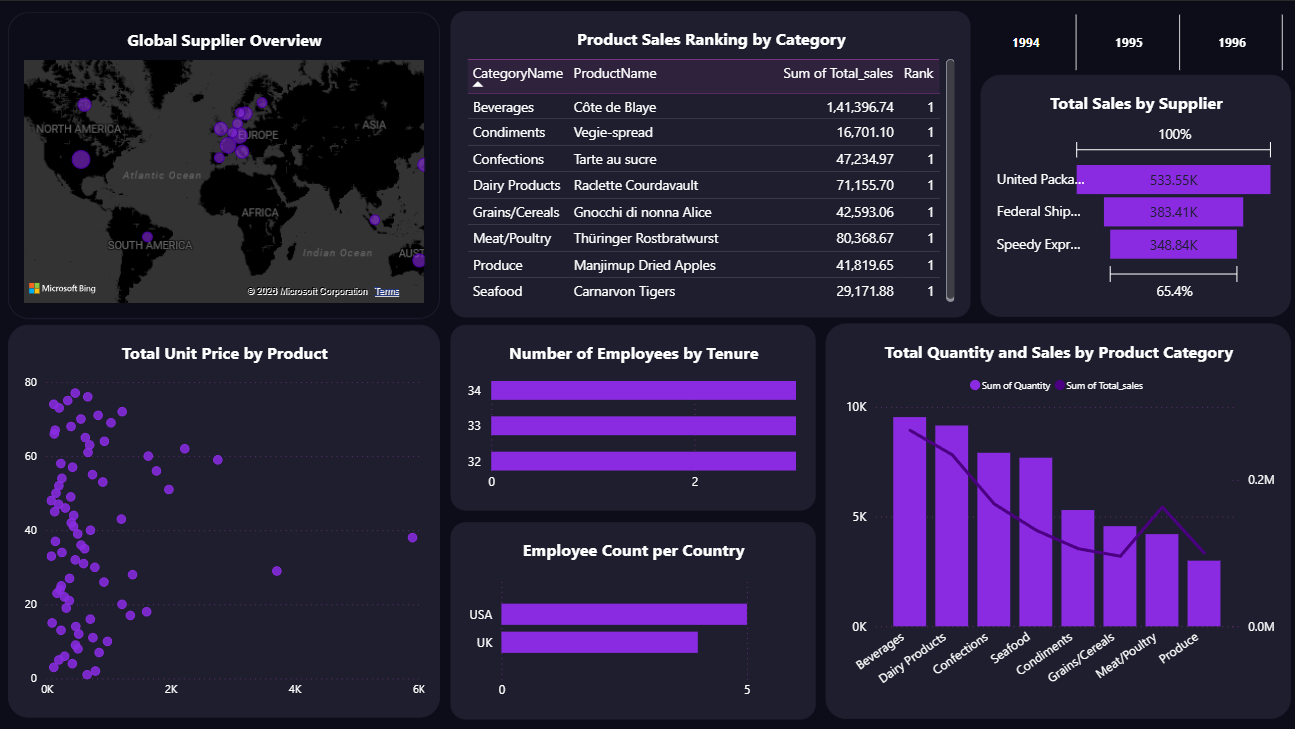

What the dashboard file says about the page in this screenshot:
{"tool":"powerbi","page":{"name":"Supplier Overview","canvas":[1280,720],"ordinal":2},"visuals":[{"type":"barChart","title":"Employee Count per Country","fields":{"Category":["employees_ready_for_sql.Country"],"Y":["CountNonNull(employees_ready_for_sql.EmployeeID)"]},"box":[444.6,511.8,358.1,193.5],"z":0},{"type":"clusteredBarChart","title":"Number of Employees by Tenure","fields":{"Category":["employees_ready_for_sql.Hire_tenure"],"Y":["CountNonNull(employees_ready_for_sql.EmployeeID)"]},"box":[444.6,318.4,358.1,182.5],"z":1000},{"type":"lineStackedColumnComboChart","title":"Total Quantity and Sales by Product Category","fields":{"Category":["categories.CategoryName"],"Y":["Sum(order details.Quantity)"],"Y2":["Sum(order details.Total_sales)"]},"box":[812.4,317,456.9,388.3],"z":2000},{"type":"map","title":"Global Supplier Overview","fields":{"Category":["suppliers.Country"],"Size":["suppliers.Supplier Count"]},"box":[9.6,11,424,300.5],"z":3000},{"type":"scatterChart","title":"Total Unit Price by Product","fields":{"X":["Sum(order details.UnitPrice)"],"Y":["order details.ProductID"]},"box":[9.6,318.4,424,385.6],"z":4000},{"type":"slicer","fields":{"Values":["orders.Year"]},"box":[938.6,11,341.7,59],"z":5000},{"type":"funnel","title":"Total Sales by Supplier","fields":{"Category":["shippers.CompanyName"],"Y":["Sum(order details.Total_sales)"]},"box":[964.7,72.7,304.6,237.4],"z":6000},{"type":"tableEx","title":"Product Sales Ranking by Category","fields":{"Values":["categories.CategoryName","products.ProductName","Sum(order details.Total_sales)","orders.Rank"]},"box":[444.6,9.6,510.5,300.5],"z":6001}]}

Visuals, with their boxes in screenshot pixels (x1, y1, x2, y2), scaled from the page's 1280x720 canvas onto the 1295x729 screenshot:
"Employee Count per Country" barChart: detection(450, 518, 812, 714)
"Number of Employees by Tenure" clusteredBarChart: detection(450, 322, 812, 507)
"Total Quantity and Sales by Product Category" lineStackedColumnComboChart: detection(822, 321, 1284, 714)
"Global Supplier Overview" map: detection(10, 11, 439, 315)
"Total Unit Price by Product" scatterChart: detection(10, 322, 439, 713)
slicer - orders.Year: detection(950, 11, 1294, 71)
"Total Sales by Supplier" funnel: detection(976, 74, 1284, 314)
"Product Sales Ranking by Category" tableEx: detection(450, 10, 966, 314)
